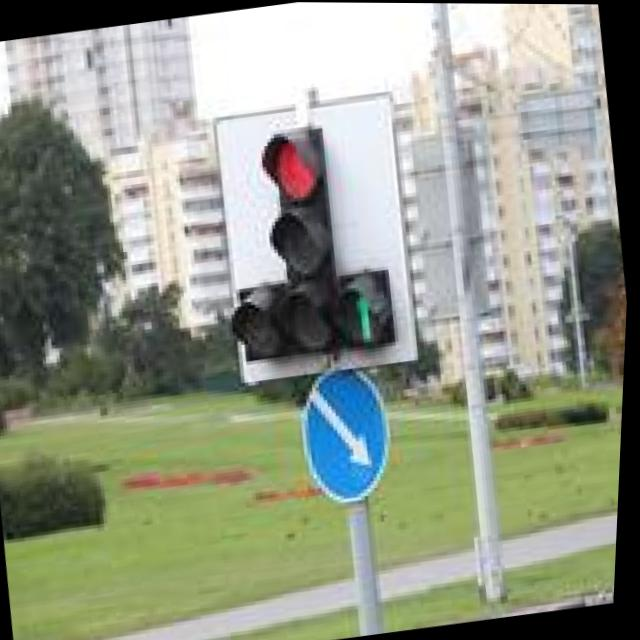red_light: (232, 102, 350, 215)
